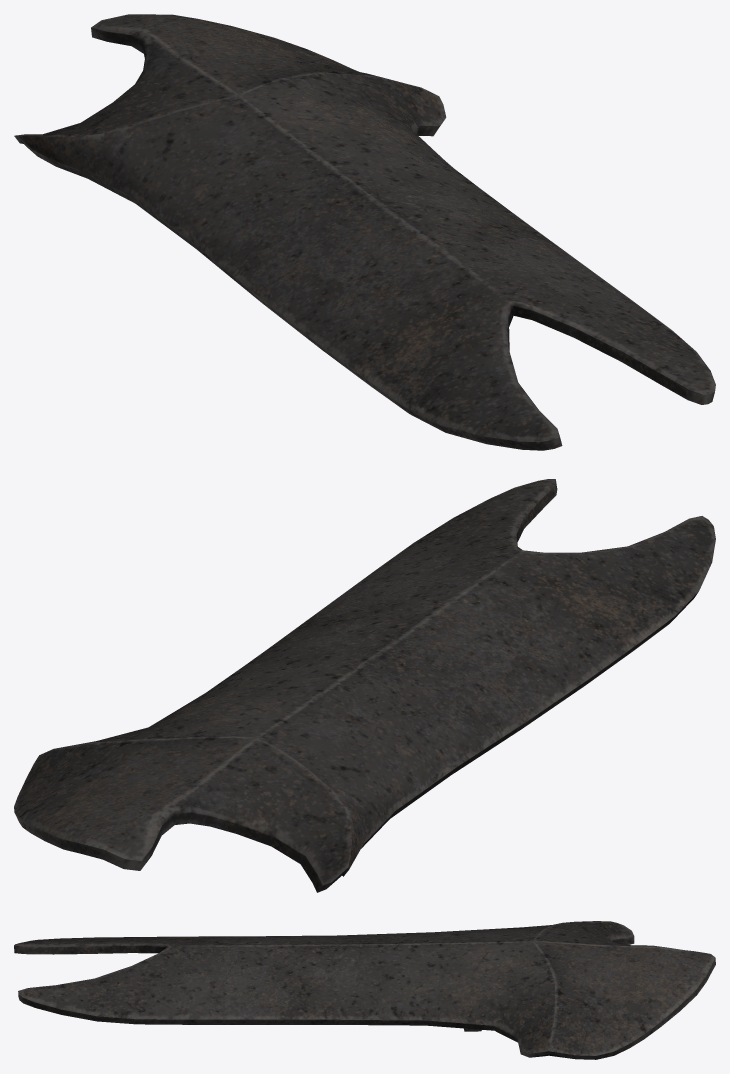
File: wm_gundabad_shield_a02.fbx
3 renders of one model, top to bottom at view 1: azimuth 30°, elevation 25°; view 2: azimuth 150°, elevation 25°; view 3: azimuth 270°, elevation 25°, orthographic. The views are drawn at different scales.
Parts seen in each view (by area): view 1: wm_gundabad_shield_a02; view 2: wm_gundabad_shield_a02; view 3: wm_gundabad_shield_a02.
Boxes of the visible parts, x1,y1,x2,y2 form: wm_gundabad_shield_a02: (14,14,715,450); wm_gundabad_shield_a02: (14,479,715,892); wm_gundabad_shield_a02: (14,921,715,1059).
Bounding box in the file's own units: 0.3999 × 0.9872 × 0.1272.
Materials: 1 (1 with a texture image).
